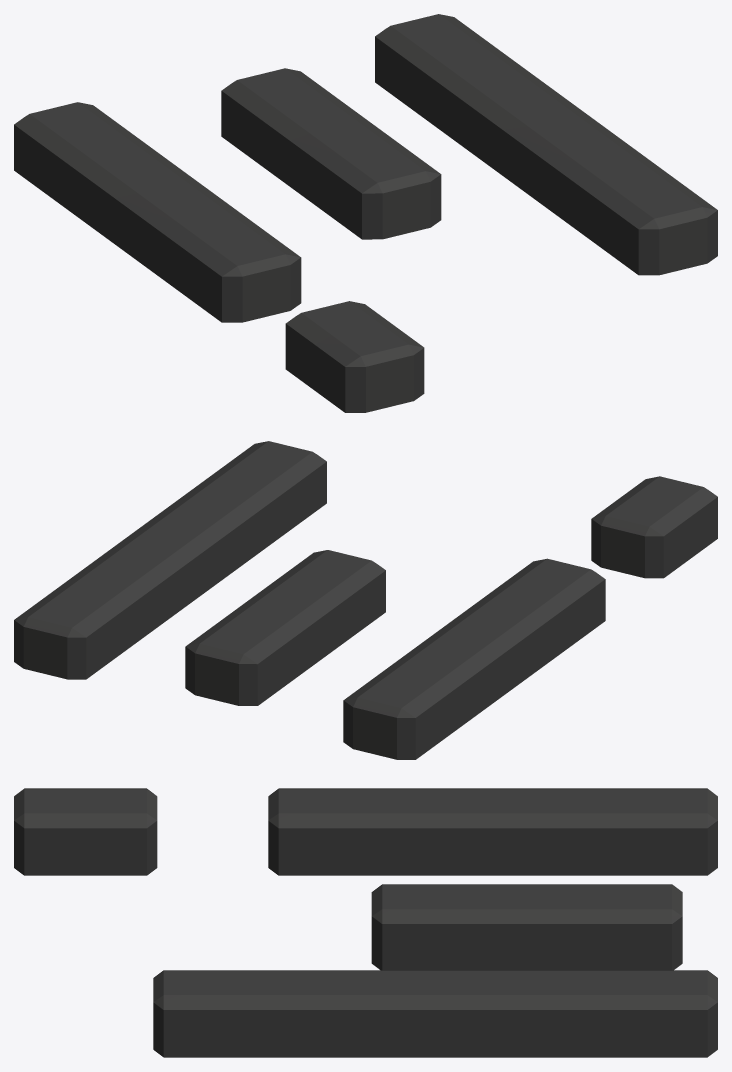
The model's file is Signs_2_1.glb.
3 views of the same model, one above another, from view 1: azimuth 30°, elevation 25°; view 2: azimuth 150°, elevation 25°; view 3: azimuth 270°, elevation 25° (orthographic). The views are drawn at different scales.
Parts seen in each view (by area): view 1: Signs_2_1; view 2: Signs_2_1; view 3: Signs_2_1.
Part boxes in pixels (box(x1,y1,x2,y2)): Signs_2_1: box(14, 14, 717, 412); Signs_2_1: box(14, 441, 717, 759); Signs_2_1: box(14, 788, 717, 1057).
Bounding box in the file's own units: 0.2888 × 0.0331 × 0.3877.
1 material, 1 textured.
